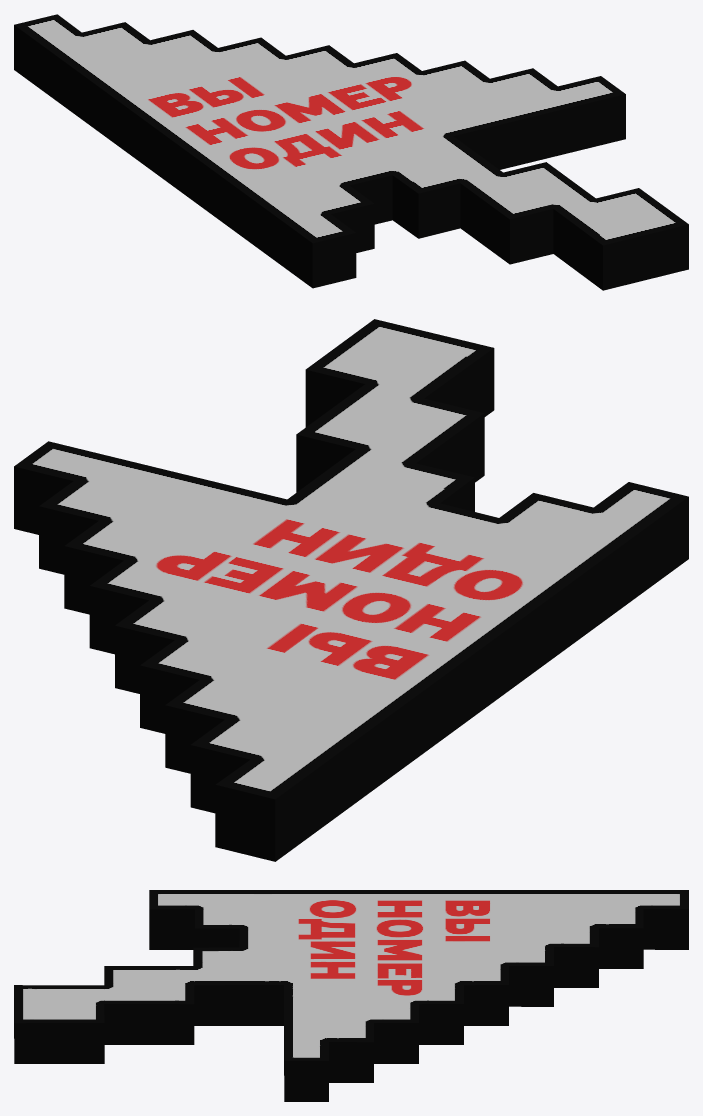
The model's file is Search.fbx.
The picture shows the model from 3 angles, top to bottom: view 1: azimuth 30°, elevation 25°; view 2: azimuth 150°, elevation 25°; view 3: azimuth 270°, elevation 25°; orthographic projection. The views are drawn at different scales.
Parts seen in each view (by area): view 1: Extrude; view 2: Extrude; view 3: Extrude.
Part boxes in pixels (left/top/right/bottom): Extrude: left=14, top=14, right=688, bottom=290; Extrude: left=14, top=319, right=688, bottom=861; Extrude: left=14, top=890, right=688, bottom=1101.
Size of the model in its own units: 9002 by 1000 by 15015.
1 material, 1 textured.
